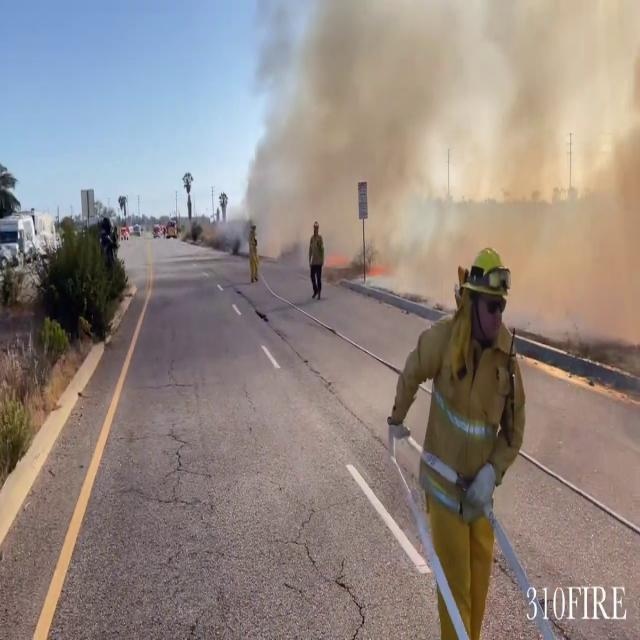Smoke: (232, 0, 640, 274)
